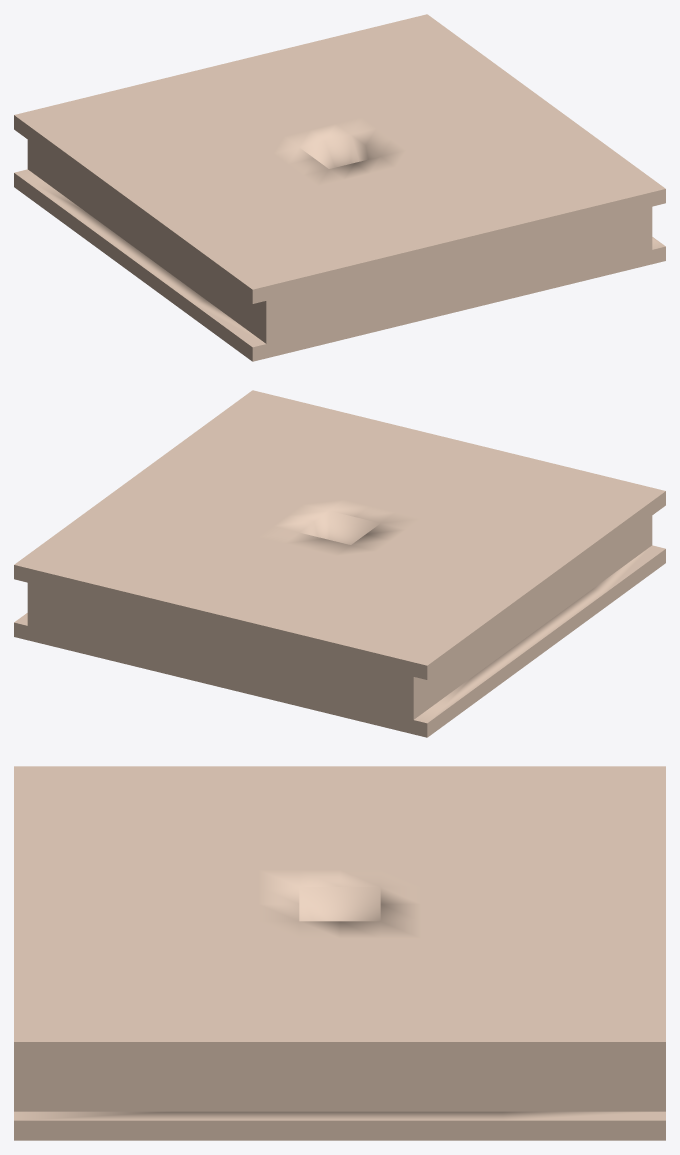
The model's file is ceiling.fbx.
3 renders of one model, top to bottom at view 1: azimuth 30°, elevation 25°; view 2: azimuth 150°, elevation 25°; view 3: azimuth 270°, elevation 25°, orthographic. The views are drawn at different scales.
Visible parts, largest first — view 1: Cube.017; view 2: Cube.017; view 3: Cube.017.
Boxes of the visible parts, <box> form: Cube.017: <box>14,14,665,361</box>; Cube.017: <box>14,390,665,737</box>; Cube.017: <box>14,766,665,1140</box>.
Bounding box in the file's own units: 1200 × 200 × 1200.
